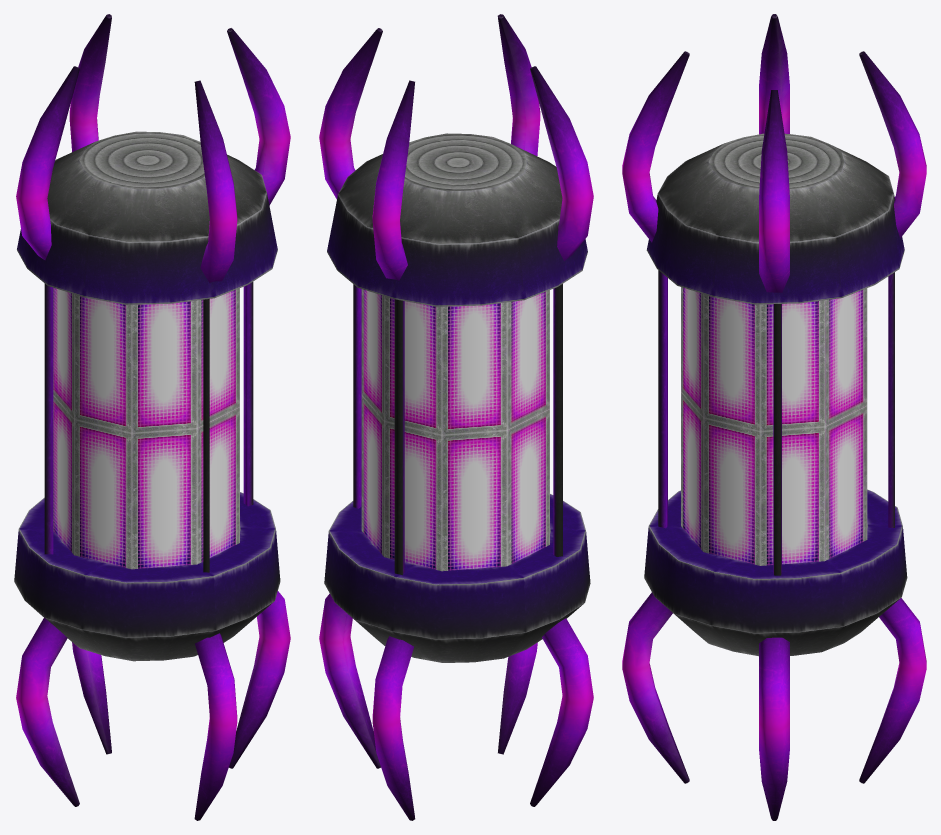
Rendered from Weapon01.FBX.
3 renders of one model, left to right at view 1: azimuth 30°, elevation 25°; view 2: azimuth 150°, elevation 25°; view 3: azimuth 270°, elevation 25°, orthographic.
Visible parts, largest first — view 1: Weapon01; view 2: Weapon01; view 3: Weapon01.
Boxes of the visible parts, left/top/right/bottom form: Weapon01: left=14, top=14, right=290, bottom=820; Weapon01: left=319, top=14, right=593, bottom=820; Weapon01: left=622, top=14, right=926, bottom=820.
Bounding box in the file's own units: 16.29 × 43.14 × 16.29.
